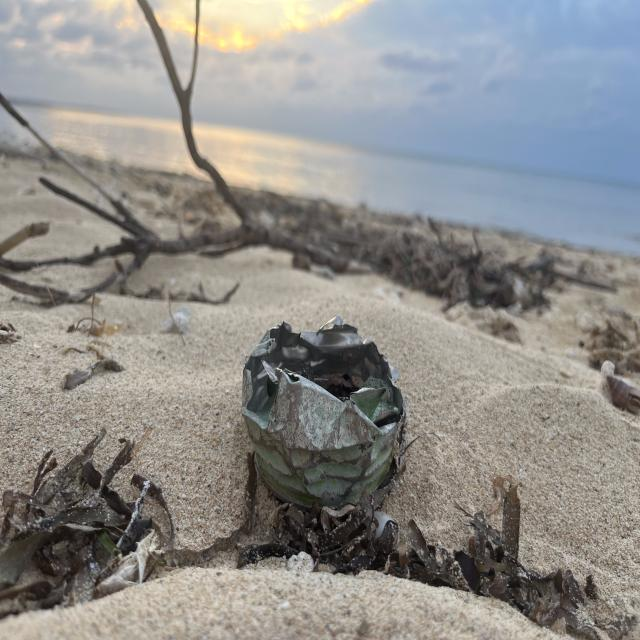seaweed: (1, 449, 640, 638)
stick: (0, 0, 381, 299)
trash: (235, 312, 419, 507)
